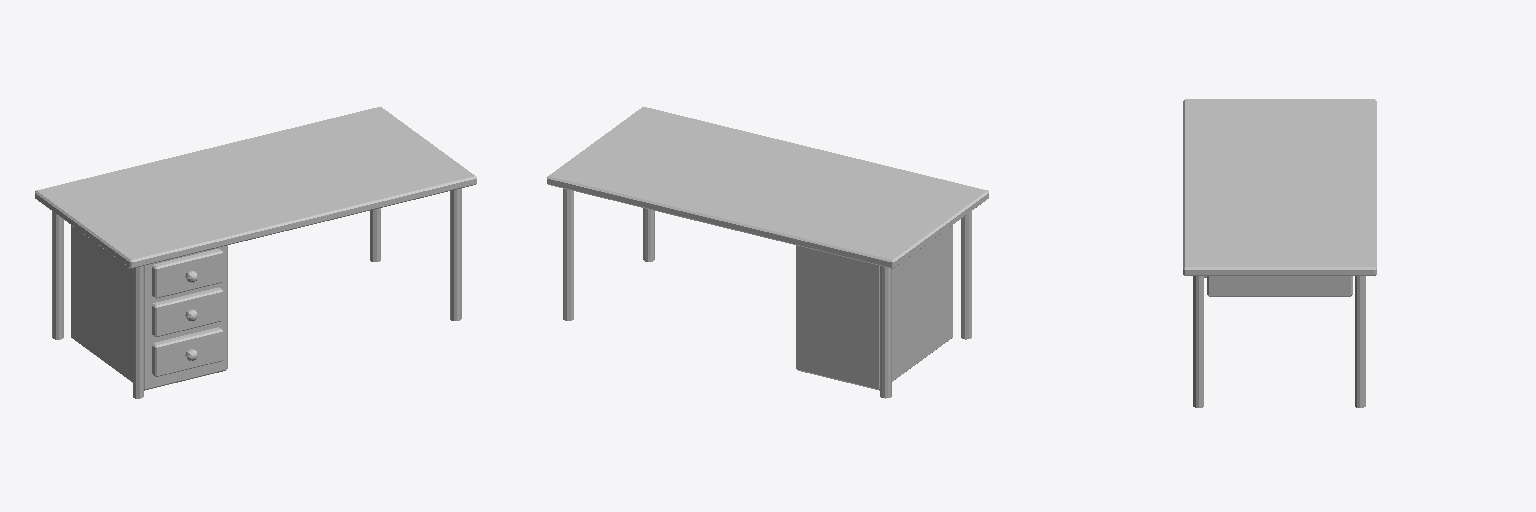
Rendered from desk check 2.obj.
The picture shows the model from 3 angles: view 1: azimuth 30°, elevation 25°; view 2: azimuth 150°, elevation 25°; view 3: azimuth 270°, elevation 25°; orthographic projection.
Parts seen in each view (by area): view 1: Desk1; view 2: Desk1; view 3: Desk1.
Part boxes in pixels (left/top/right/bottom): Desk1: left=35, top=107, right=476, bottom=398; Desk1: left=547, top=107, right=988, bottom=398; Desk1: left=1183, top=99, right=1376, bottom=407.
Bounding box in the file's own units: 207 × 82.75 × 100.